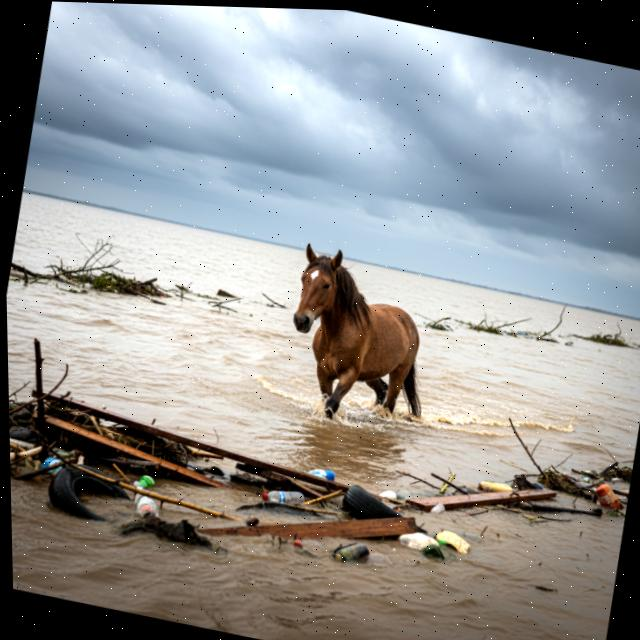horse: (252, 224, 462, 454)
